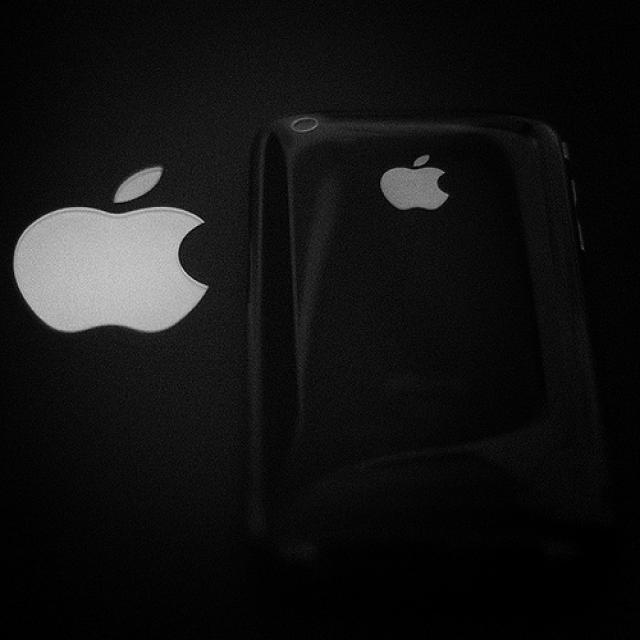apple: (4, 159, 219, 345), (374, 154, 456, 217)
